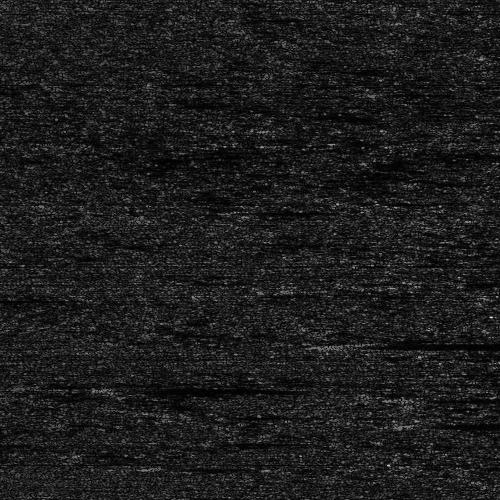rock: (397, 390, 428, 405), (397, 418, 438, 429), (131, 463, 194, 468), (88, 384, 129, 389), (327, 342, 368, 345)
shadow: (413, 390, 500, 405), (418, 418, 500, 429), (0, 293, 90, 302), (109, 384, 269, 389), (163, 463, 263, 468), (348, 342, 500, 345)
